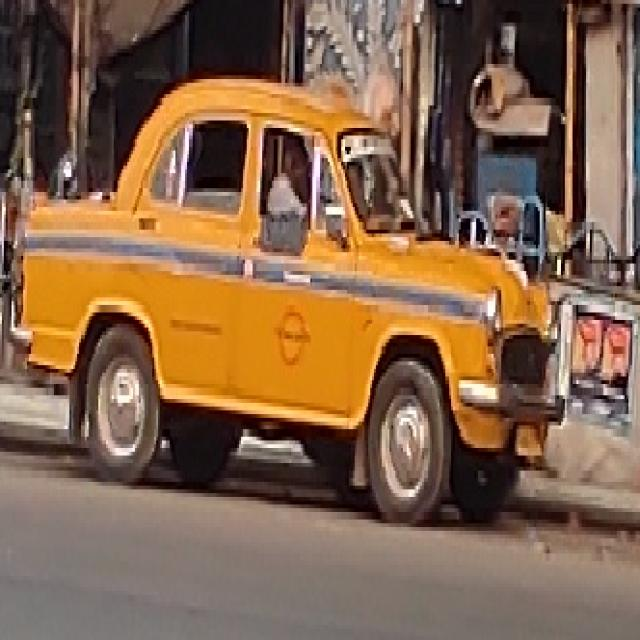ambasador_taxi: (19, 72, 582, 530)
